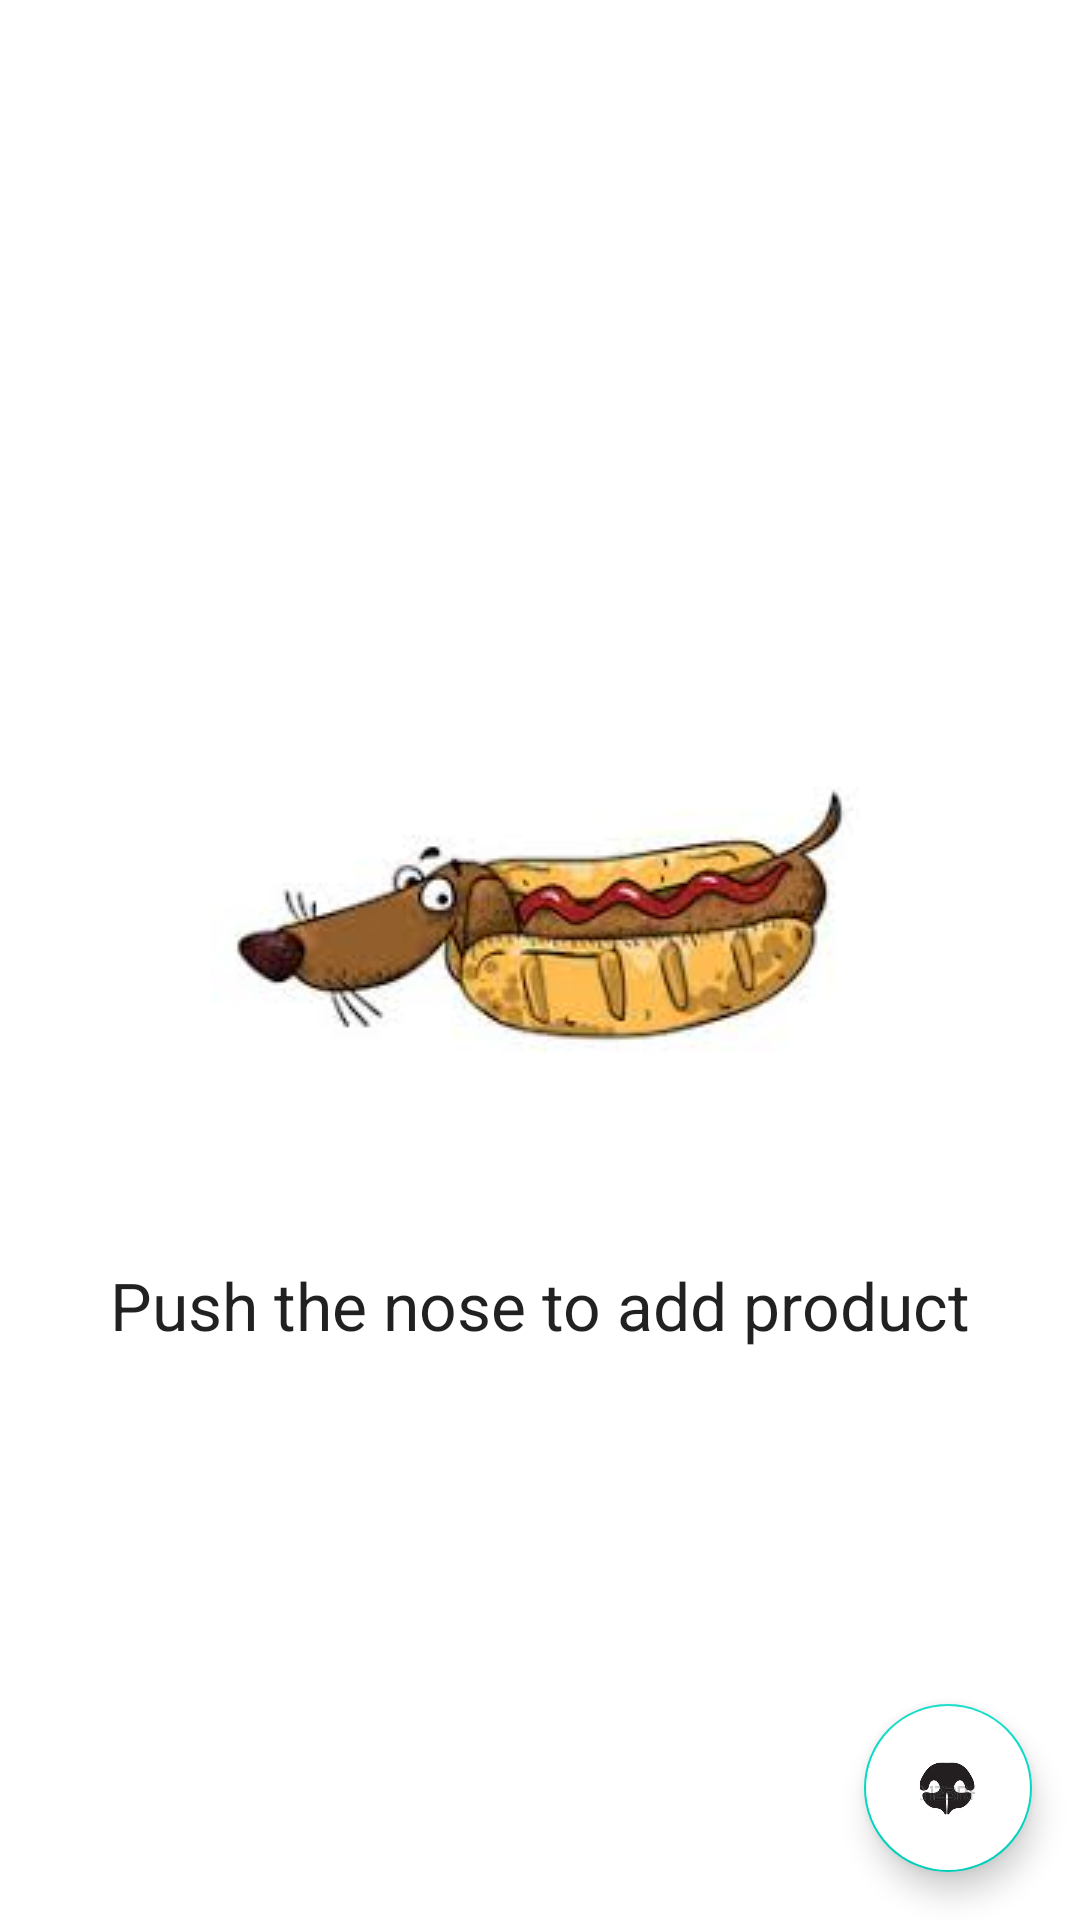

Icons on this 1080px×1920px Android screen, each with its box as [x1=x1, y1=y1, x2=x2, y2=y2]:
fab nose: [x1=864, y1=1704, x2=1032, y2=1872]
